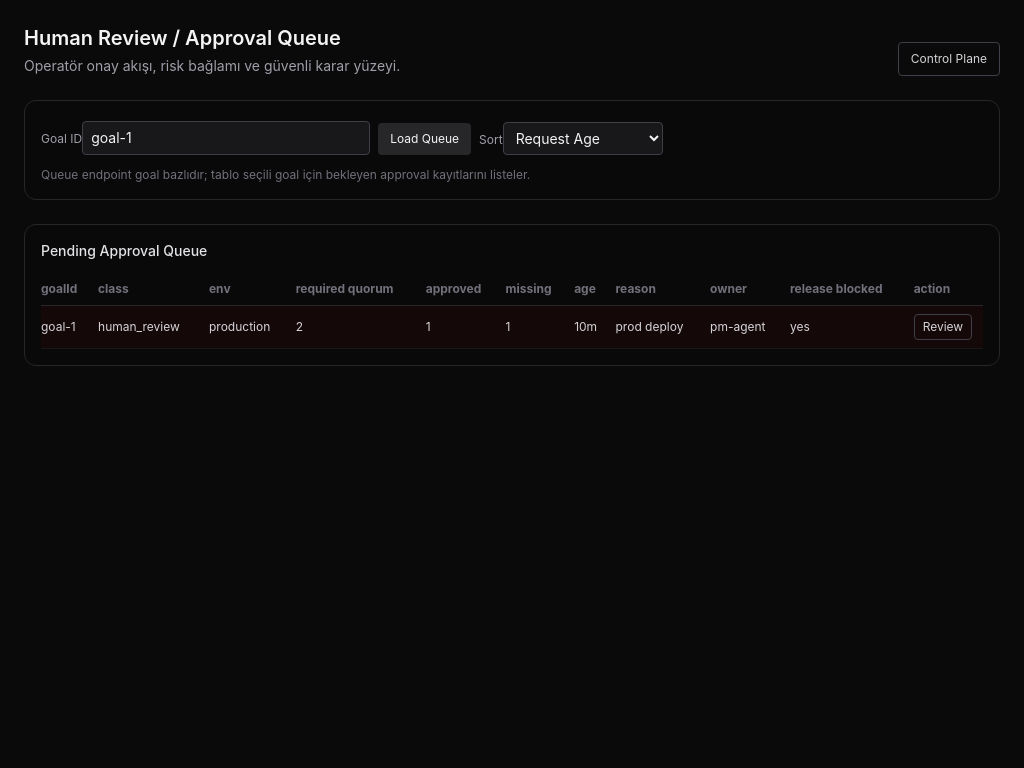
Test: ApprovalQueuePage › detail drawer opens correctly
Click the button "Review". click: x=943, y=327
box: x1=914 y1=314 x2=972 y2=340
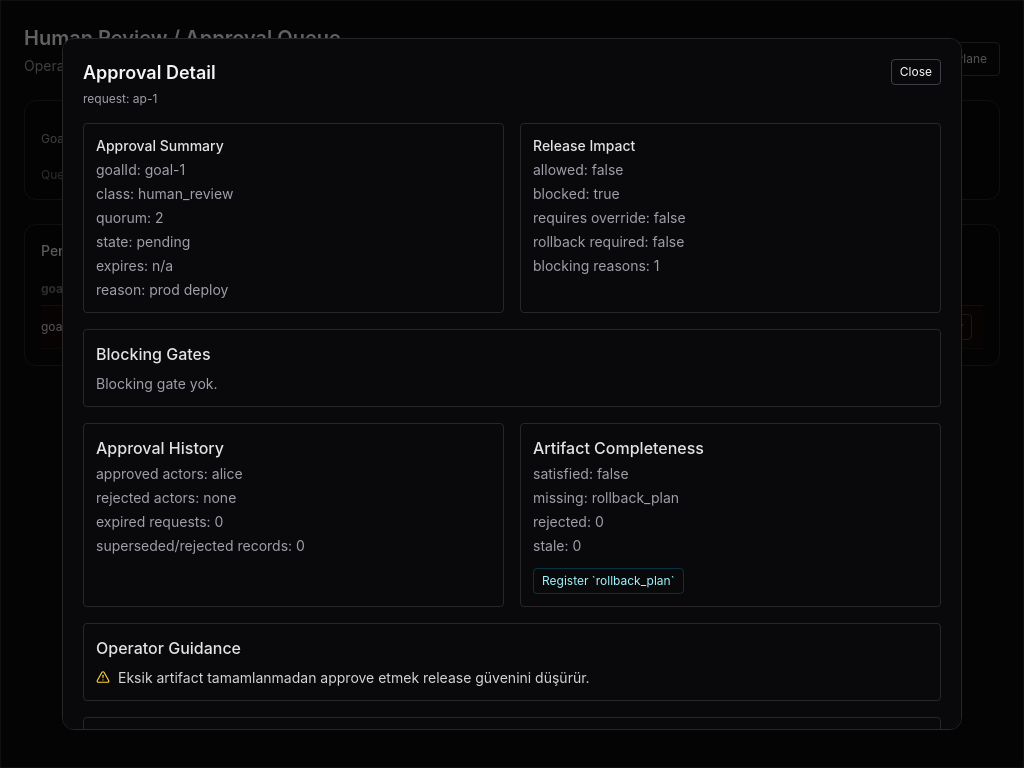
Now the heading "Approval Detail" is shown, box x1=83 y1=59 x2=216 y2=87
Now the heading "Release Impact" is shown, box x1=533 y1=137 x2=635 y2=154
